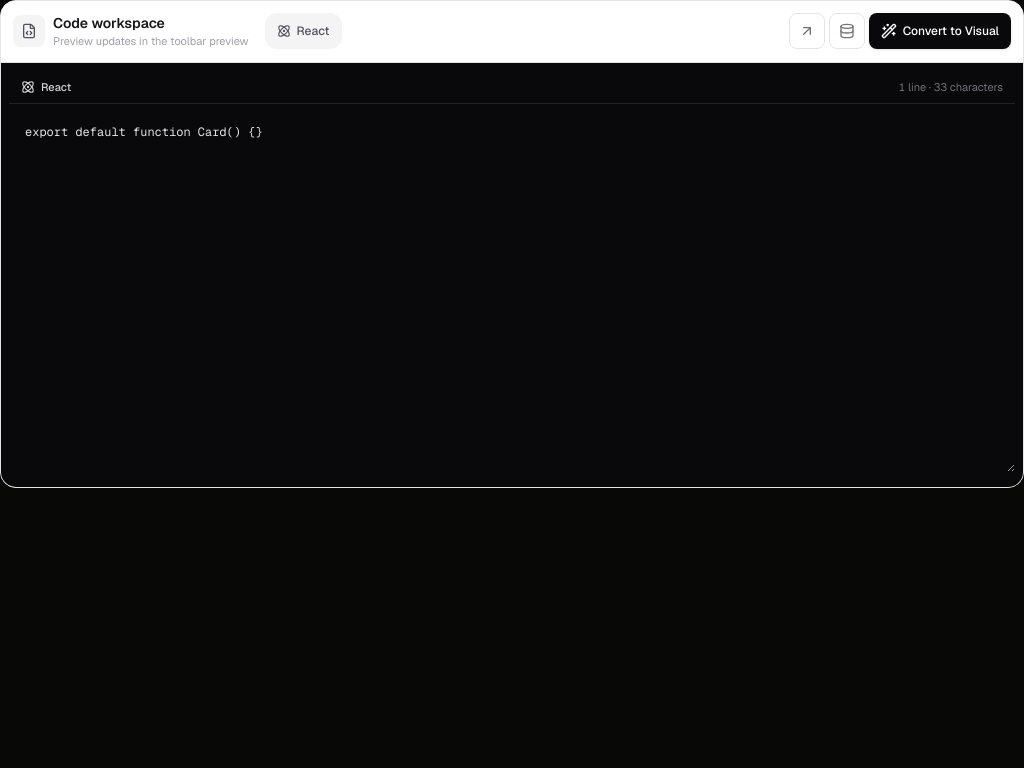
Test: CodeEditorPanel › opens the import dialog from the lang chip to change the code type
What coordinates should you click on to do the following:
click the button with aria-label "Change code type (currently React)"
I would click on:
 (303, 31)
Its box is x1=264 y1=13 x2=342 y2=49.
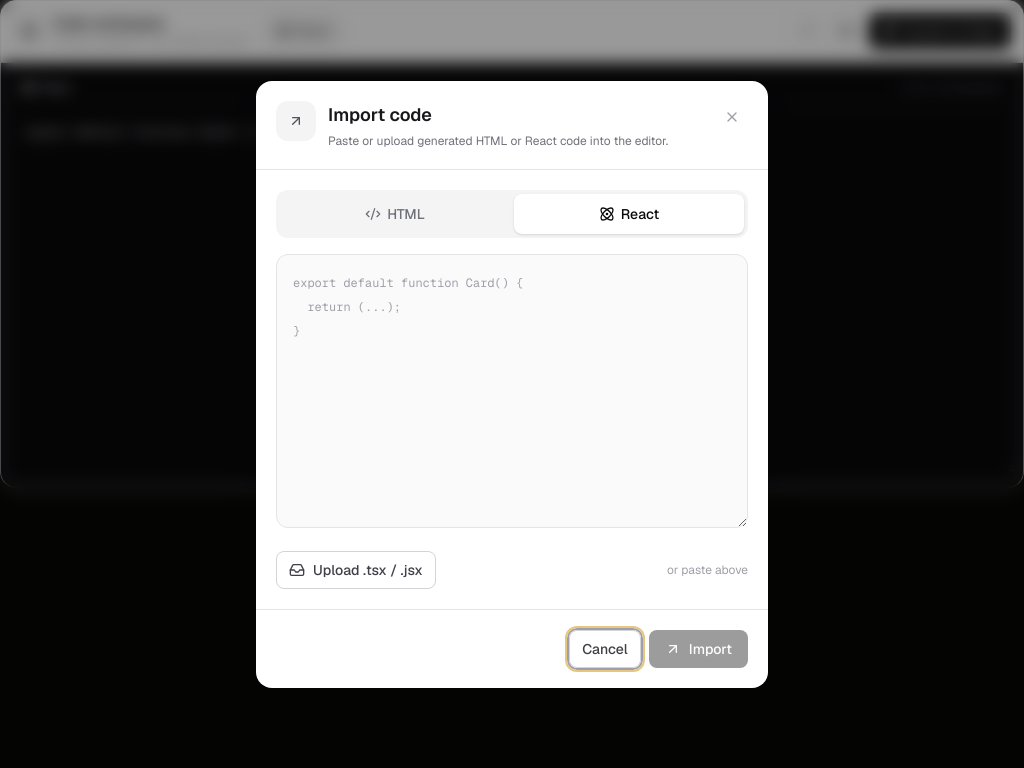
Check: the dialog is shown, box x1=256 y1=80 x2=768 y2=688
